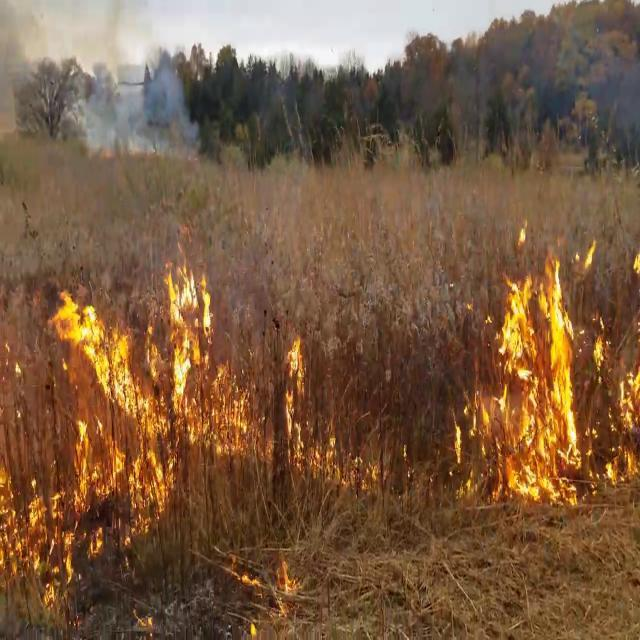Fire: (50, 248, 230, 529), (465, 215, 583, 504), (163, 245, 254, 460), (606, 232, 640, 482), (233, 548, 300, 639), (315, 425, 383, 498), (280, 324, 312, 471)
Smoke: (72, 1, 202, 159), (0, 0, 34, 142)
